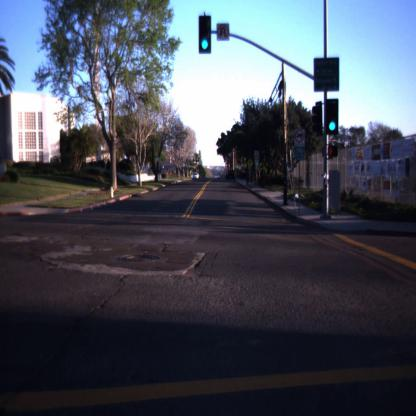trafficlight: (199, 14, 213, 58), (327, 98, 338, 134)
